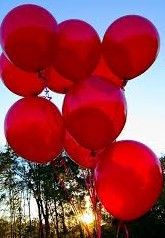Balloon: (94, 141, 165, 222), (62, 77, 127, 148), (4, 96, 63, 161), (1, 4, 59, 70), (102, 15, 160, 78), (53, 20, 102, 77)
